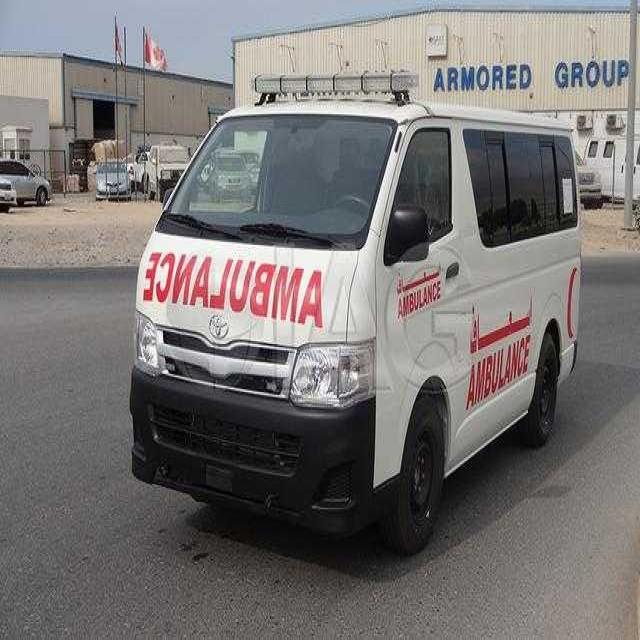emergency-vehicle: (132, 70, 580, 544)
